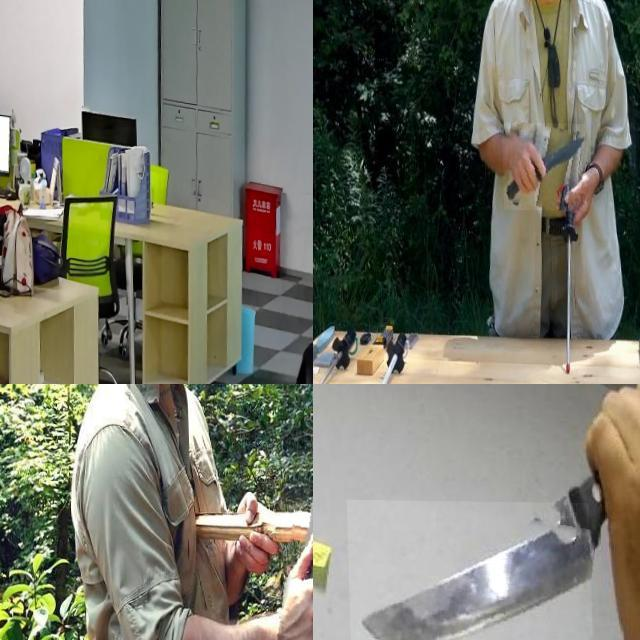-: (344, 498, 592, 640), (500, 122, 584, 210), (276, 448, 313, 640)
